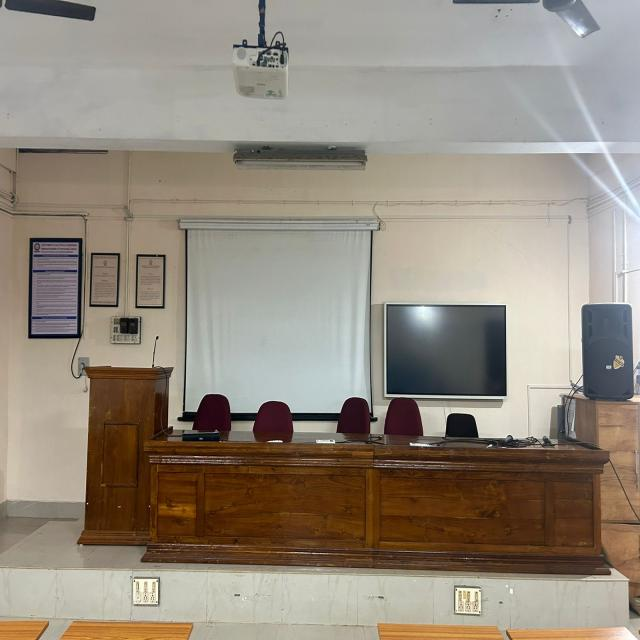Table ahead at: (150, 450, 602, 564), (84, 363, 173, 543)
chair ahead at: (383, 401, 429, 441), (192, 399, 232, 441), (251, 401, 290, 442), (339, 399, 370, 433)
